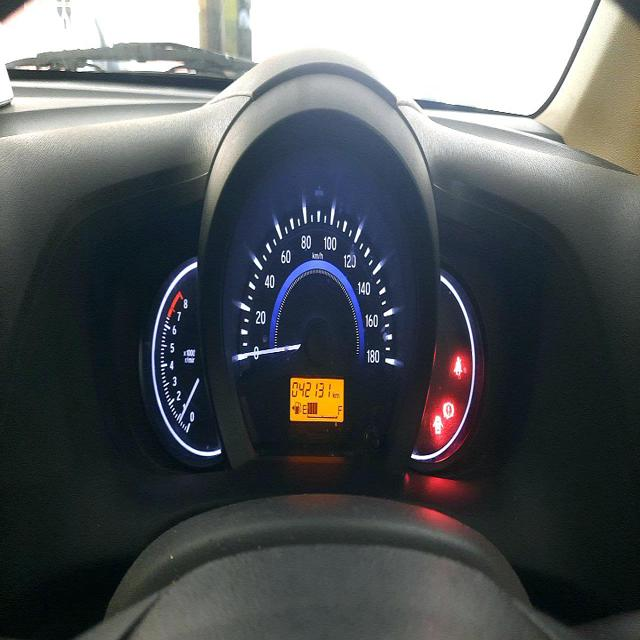odometer: (291, 379, 331, 398)
